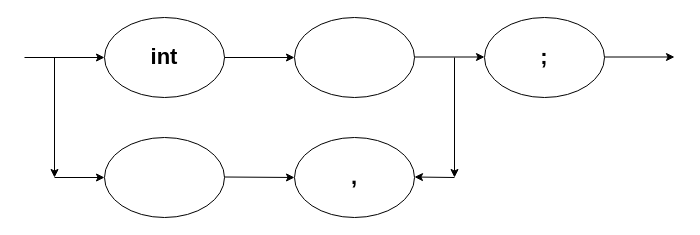
Image size: 700x235. Some labels were removed from this diagram. Here are the shapes that lost their labels. From the top down, the centre of each, then its label:
point (354, 57): var
point (164, 177): real
